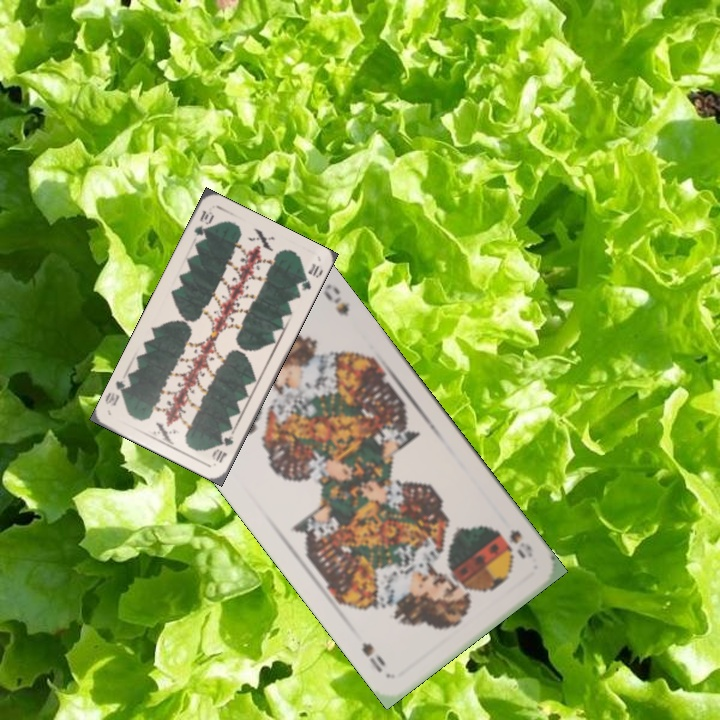G10: (208, 432, 236, 465), (190, 206, 217, 238)
SO: (505, 525, 536, 562)
